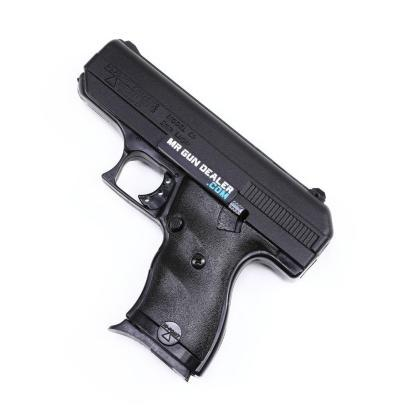Pistol: (76, 37, 335, 382)
